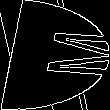M_W: (5, 29, 105, 81)
